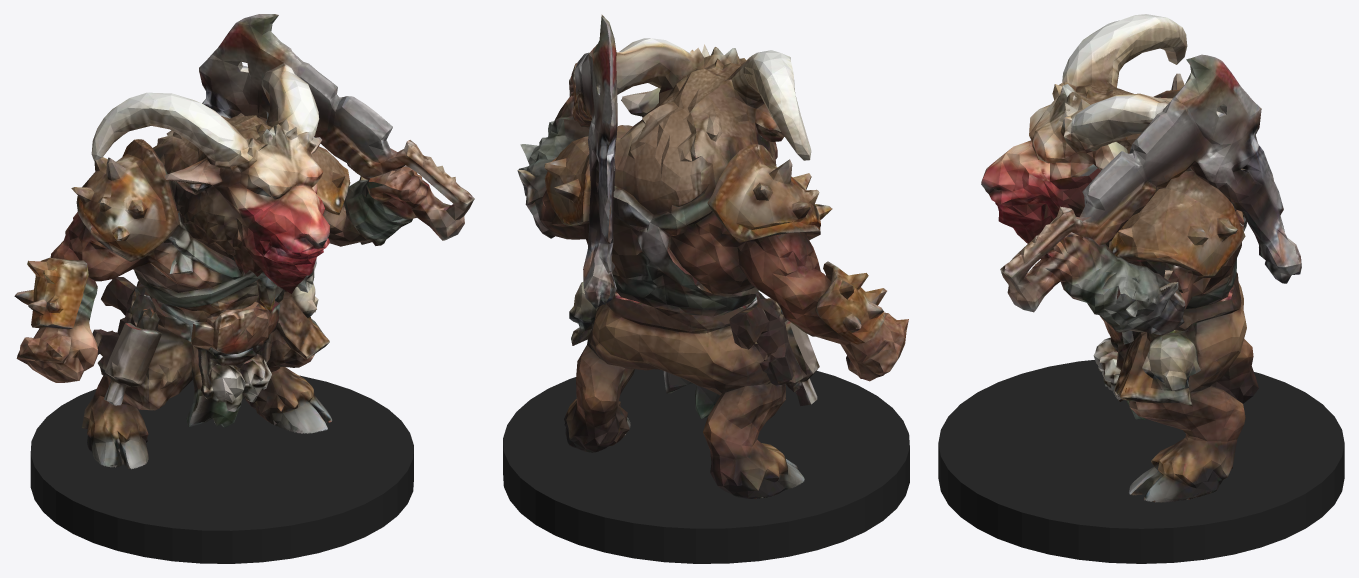
File: fg-gorehorn.glb
3 views of the same model, side by side, from view 1: azimuth 30°, elevation 25°; view 2: azimuth 150°, elevation 25°; view 3: azimuth 270°, elevation 25° (orthographic). The views are drawn at different scales.
Parts seen in each view (by area): view 1: figure, base; view 2: figure, base; view 3: figure, base.
Part boxes in pixels (x1,y1,x2,y2): figure: (14,14,474,469); base: (30,375,413,563); figure: (517,14,908,498); base: (503,369,909,563); figure: (981,14,1301,502); base: (938,360,1344,563).
Size of the model in its own units: 1.45 by 1.57 by 1.26.
Materials: 2 (1 with a texture image).
